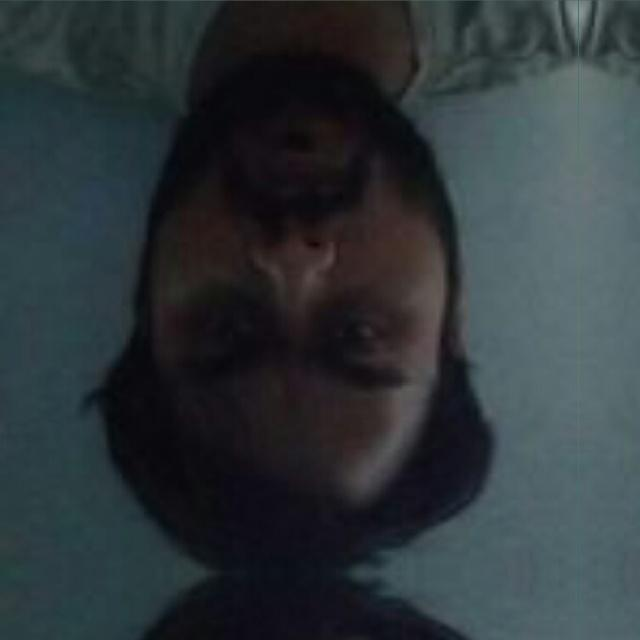Angry: (105, 47, 518, 537)
